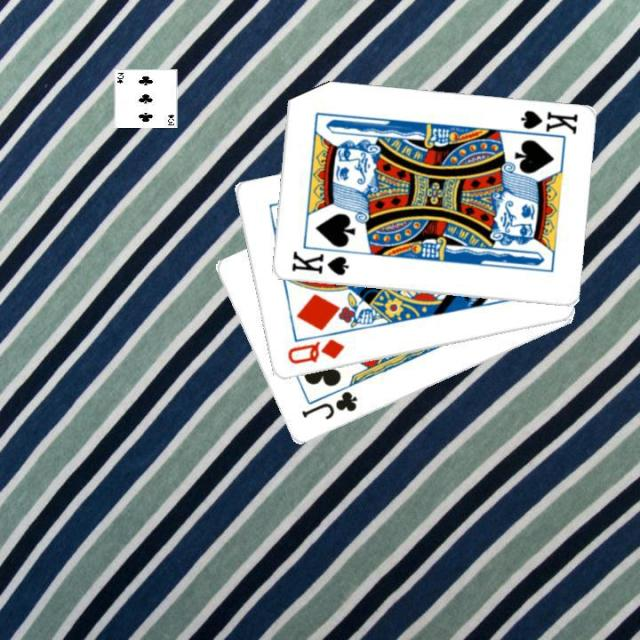JC: (297, 388, 359, 422)
KS: (509, 106, 579, 142), (287, 248, 350, 278)
QD: (282, 335, 346, 367)
